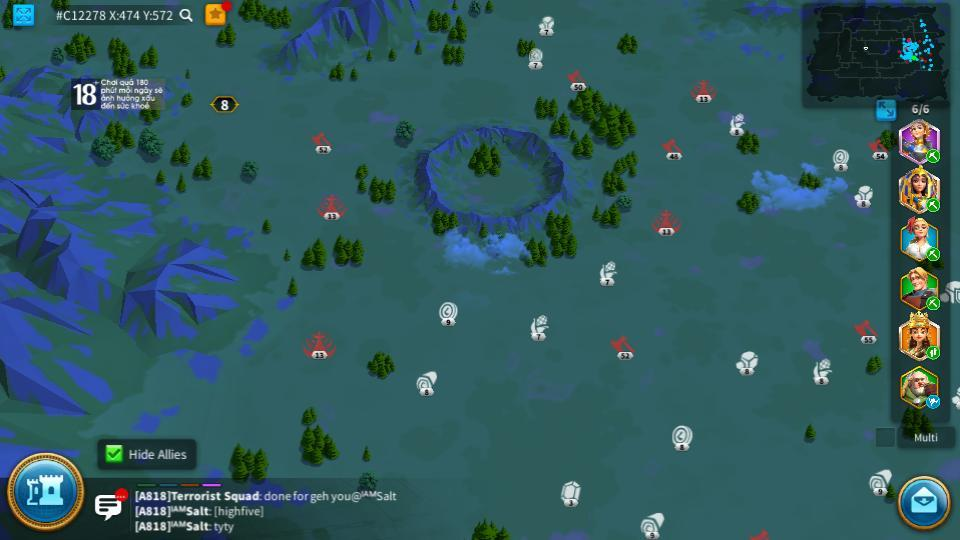gem-z-out: (558, 480, 582, 506)
march_idle: (925, 396, 942, 408)
march_marching: (925, 197, 941, 212), (925, 297, 942, 309), (925, 347, 941, 359), (925, 150, 941, 162)
